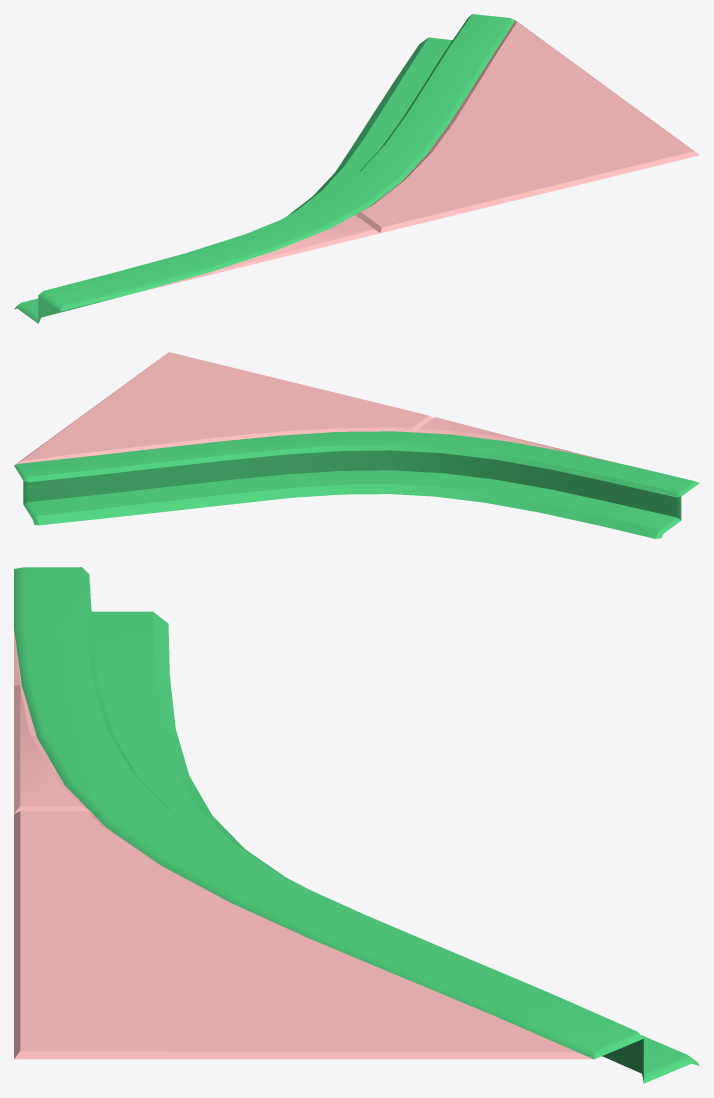
Rendered from mesh_Paving_Inner45Left_v1.3.fbx.
3 renders of one model, top to bottom at view 1: azimuth 30°, elevation 25°; view 2: azimuth 150°, elevation 25°; view 3: azimuth 270°, elevation 25°, orthographic. The views are drawn at different scales.
Parts seen in each view (by area): view 1: mesh_Paving_Inner45Left; view 2: mesh_Paving_Inner45Left; view 3: mesh_Paving_Inner45Left.
Part boxes in pixels (bbox=[...]): mesh_Paving_Inner45Left: bbox=[14, 14, 699, 323]; mesh_Paving_Inner45Left: bbox=[14, 352, 699, 538]; mesh_Paving_Inner45Left: bbox=[14, 567, 699, 1083].
Size of the model in its own units: 200 by 10.77 by 118.
